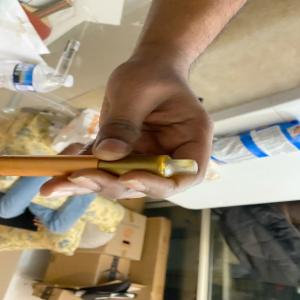Golden-E-Ciggirate: (0, 151, 204, 181)
